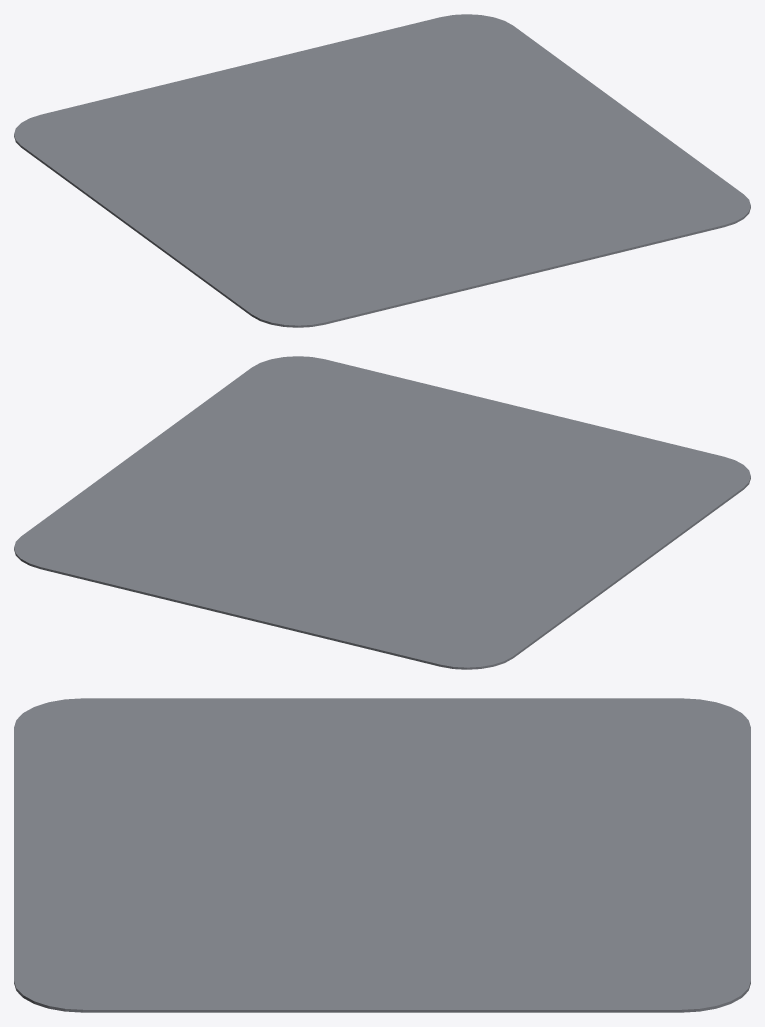
The picture shows the model from 3 angles, top to bottom: view 1: azimuth 30°, elevation 25°; view 2: azimuth 150°, elevation 25°; view 3: azimuth 270°, elevation 25°; orthographic projection. The views are drawn at different scales.
Parts seen in each view (by area): view 1: COM-02 Floor Surface; view 2: COM-02 Floor Surface; view 3: COM-02 Floor Surface.
Part boxes in pixels (x1,y1,x2,y2): COM-02 Floor Surface: (14,14,750,327); COM-02 Floor Surface: (14,356,750,669); COM-02 Floor Surface: (14,698,750,1012).
Bounding box in the file's own units: 1.92 × 0.008 × 1.92.
1 material, 1 textured.
